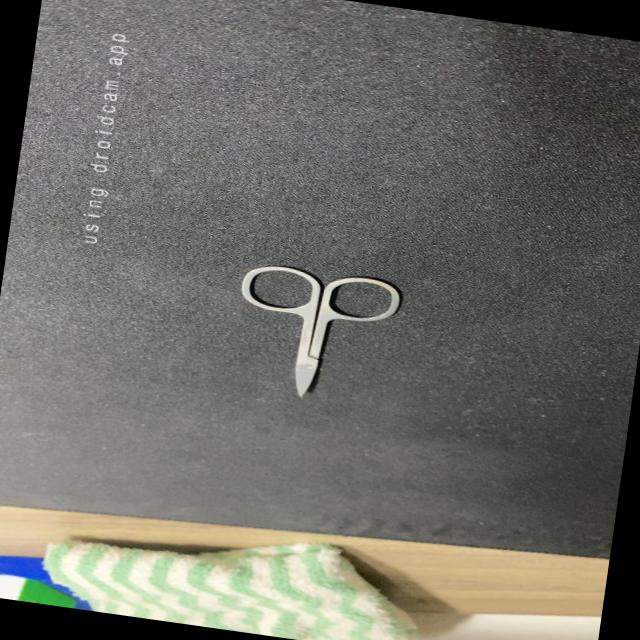scissor: (221, 254, 410, 419)
